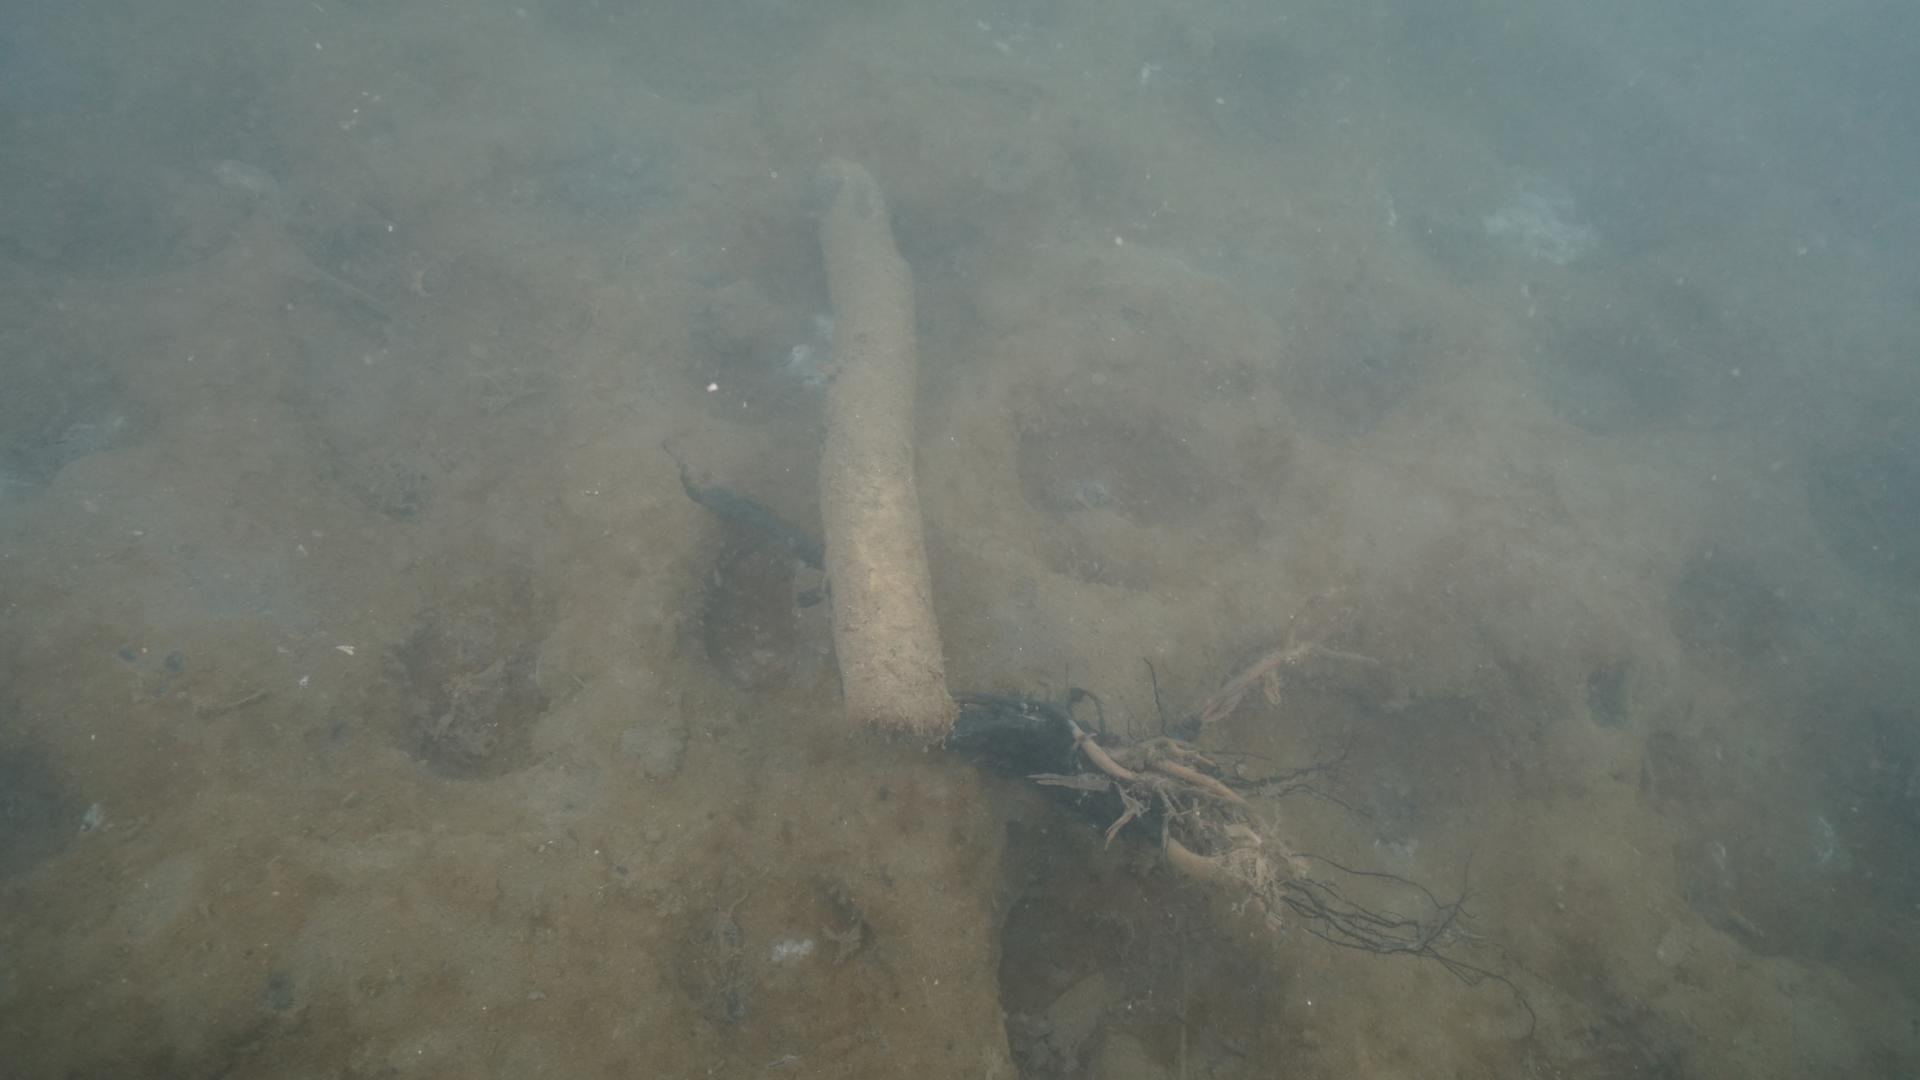wood: (815, 150, 951, 729)
